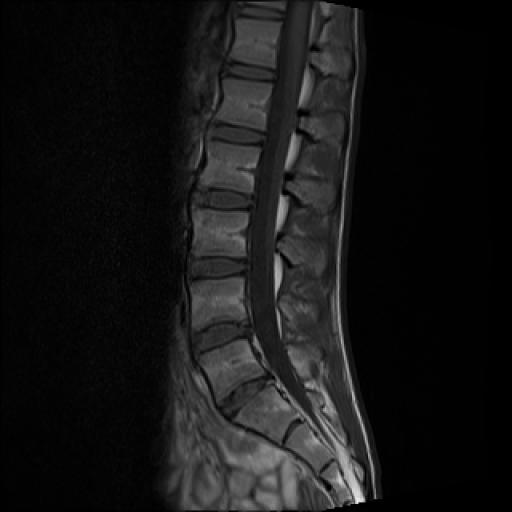L1: (215, 78, 273, 132)
L2: (197, 141, 261, 194)
L3: (194, 208, 248, 258)
L4: (191, 277, 247, 330)
L5: (199, 339, 266, 404)
S1: (234, 386, 298, 444)
